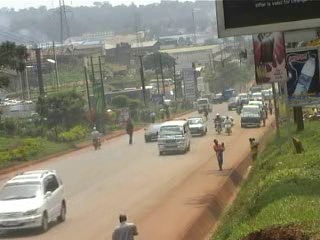Car: (0, 165, 73, 235), (139, 122, 165, 144), (227, 95, 238, 113)
Motorcycle: (90, 127, 104, 152), (210, 113, 223, 135), (222, 117, 233, 136), (233, 99, 243, 115)
